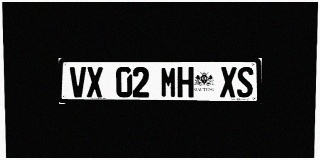0: (116, 67, 132, 98)
2: (133, 67, 149, 98)
H: (177, 67, 194, 98)
M: (161, 67, 177, 98)
S: (237, 67, 253, 98)
V: (70, 67, 86, 98)
X: (87, 67, 103, 98), (220, 67, 236, 98)
